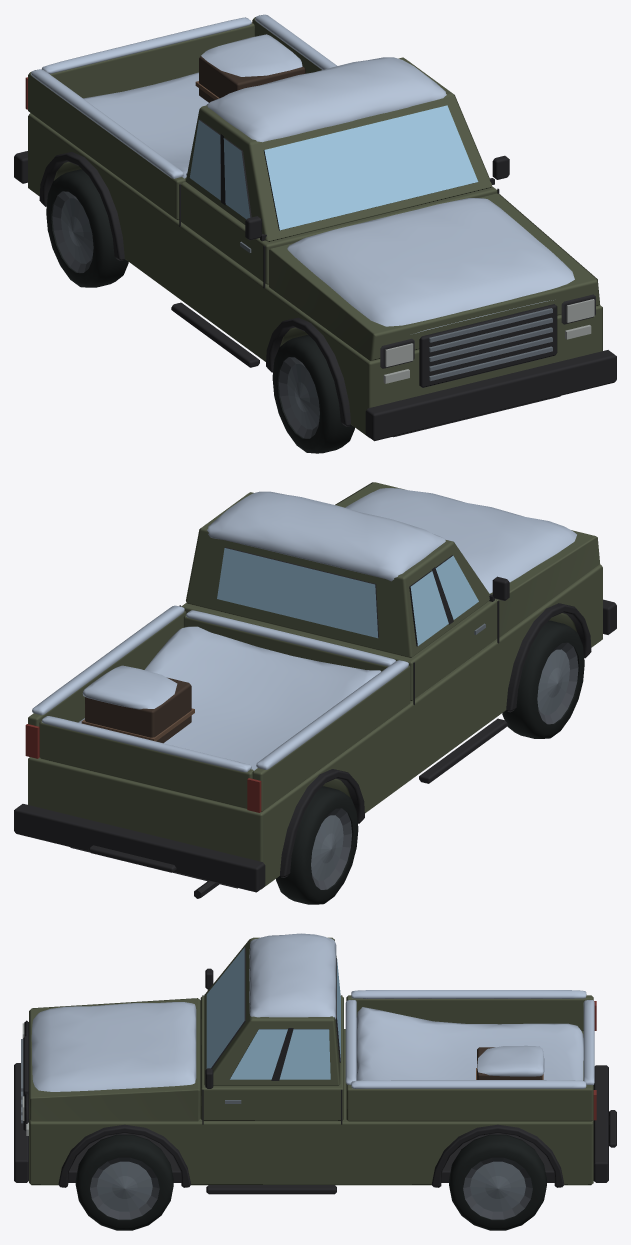
The model's file is pickup_truck.glb.
3 renders of one model, top to bottom at view 1: azimuth 30°, elevation 25°; view 2: azimuth 150°, elevation 25°; view 3: azimuth 270°, elevation 25°, orthographic. The views are drawn at different scales.
Visible parts, largest first — view 1: Body, Snow, Wheels; view 2: Body, Snow, Wheels; view 3: Body, Snow, Wheels.
Boxes of the visible parts, box(x1,y1,x2,y2) form: Body: box(14, 17, 616, 441); Snow: box(31, 14, 574, 333); Wheels: box(46, 169, 354, 453); Body: box(14, 482, 616, 898); Snow: box(32, 488, 576, 772); Wheels: box(276, 620, 584, 904); Body: box(14, 937, 616, 1194); Snow: box(31, 933, 594, 1091); Wheels: box(75, 1134, 546, 1230).
Size of what is drawn, in the model's own units: 2.14 by 2.04 by 5.17.
